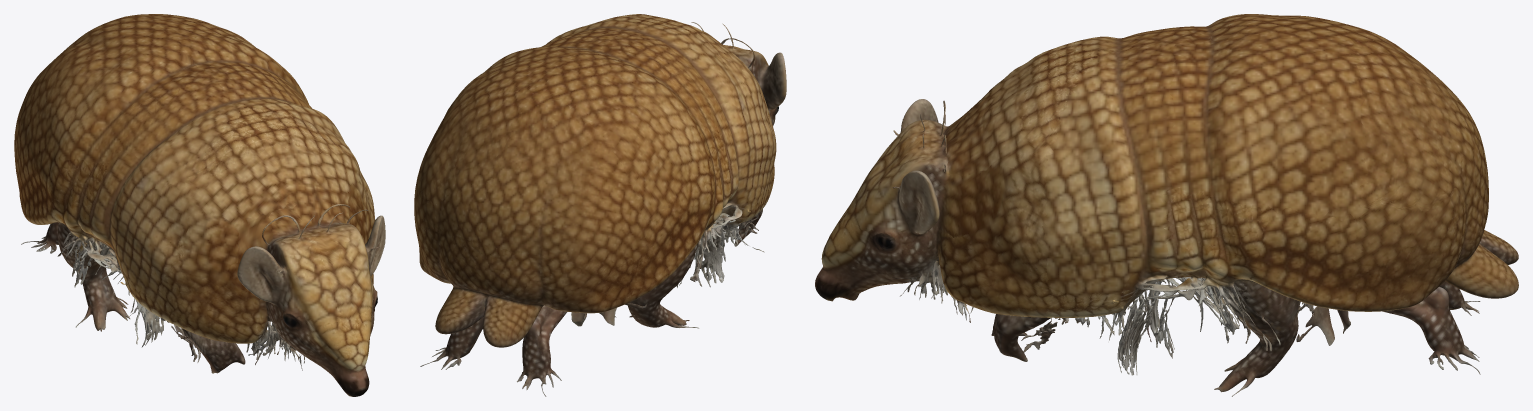
The model's file is tatubola_donordeste.glb.
3 views of the same model, side by side, from view 1: azimuth 30°, elevation 25°; view 2: azimuth 150°, elevation 25°; view 3: azimuth 270°, elevation 25° (orthographic). The views are drawn at different scales.
Size of the model in its own units: 0.9587 by 0.9135 by 1.9.
Materials: 1 (1 with a texture image).
